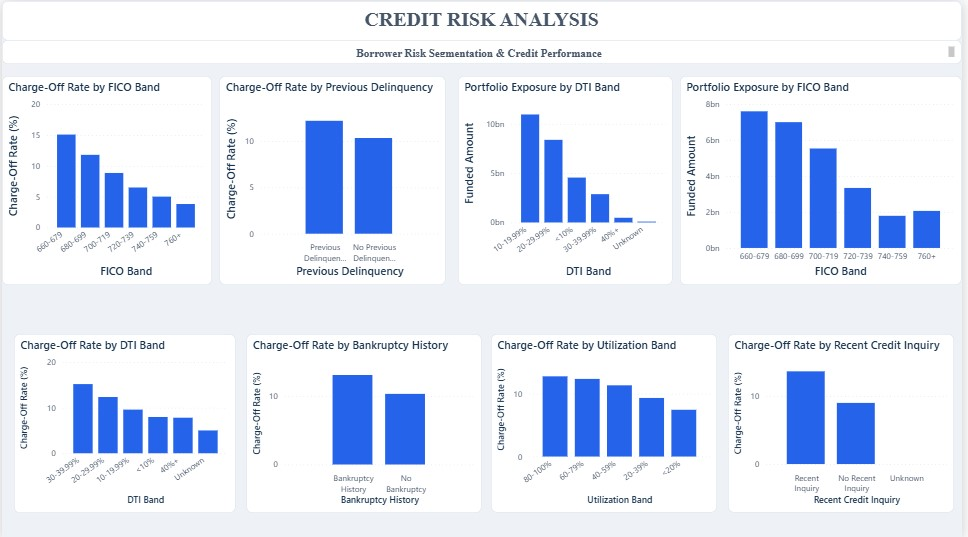

Layout of this report page (visuals, bound fields, positions):
{"tool":"powerbi","page":{"name":"Credit Risk Analysis","canvas":[1280,720],"ordinal":2},"visuals":[{"type":"clusteredColumnChart","title":"Charge-Off Rate by FICO Band","fields":{"Category":["FICO_Risk.fico_band"],"Y":["Sum(FICO_Risk.charge_off_rate)"]},"box":[0,100,280,278.3],"z":0},{"type":"clusteredColumnChart","title":"Charge-Off Rate by DTI Band","fields":{"Category":["DTI_Risk.dti_band"],"Y":["Sum(DTI_Risk.charge_off_rate)"]},"box":[16.7,443.3,295,238.3],"z":1000},{"type":"textbox","box":[0,0,1279.5,53],"z":2000},{"type":"textbox","box":[0,53,1279.5,31.8],"z":3000},{"type":"clusteredColumnChart","title":"Charge-Off Rate by Previous Delinquency","fields":{"Category":["Delinquency.delinquency_group"],"Y":["Sum(Delinquency.charge_off_rate)"]},"box":[290.7,99.9,301.3,278.6],"z":4000},{"type":"clusteredColumnChart","title":"Charge-Off Rate by Bankruptcy History","fields":{"Category":["Bankruptcy.bankruptcy_group"],"Y":["Sum(Bankruptcy.charge_off_rate)"]},"box":[326.7,443.3,313.3,238.3],"z":5000},{"type":"clusteredColumnChart","title":"Charge-Off Rate by Recent Credit Inquiry","fields":{"Category":["Credit_Inquiry.inquiry_group"],"Y":["Sum(Credit_Inquiry.charge_off_rate)"]},"box":[967.6,443.7,301.3,237.7],"z":6000},{"type":"clusteredColumnChart","title":"Charge-Off Rate by Utilization Band","fields":{"Category":["Utilization.utilization_band"],"Y":["Sum(Utilization.charge_off_rate)"]},"box":[651.1,443.7,301.3,237.7],"z":7000},{"type":"clusteredColumnChart","title":"Portfolio Exposure by FICO Band","fields":{"Category":["FICO_Risk.fico_band"],"Y":["Sum(FICO_Risk.funded_amount)"]},"box":[904,99.9,375.5,278.6],"z":8000},{"type":"clusteredColumnChart","title":"Portfolio Exposure by DTI Band","fields":{"Category":["DTI_Risk.dti_band"],"Y":["Sum(DTI_Risk.funded_amount)"]},"box":[607.2,99.9,286.2,278.6],"z":9000}]}

Visuals, with their boxes in screenshot pixels (x1, y1, x2, y2), scaled from the page's 1280x720 canvas onto the 968x537 screenshot:
"Charge-Off Rate by FICO Band" clusteredColumnChart: [left=0, top=75, right=212, bottom=282]
"Charge-Off Rate by DTI Band" clusteredColumnChart: [left=13, top=331, right=236, bottom=508]
textbox: [left=0, top=0, right=967, bottom=40]
textbox: [left=0, top=40, right=967, bottom=63]
"Charge-Off Rate by Previous Delinquency" clusteredColumnChart: [left=220, top=75, right=448, bottom=282]
"Charge-Off Rate by Bankruptcy History" clusteredColumnChart: [left=247, top=331, right=484, bottom=508]
"Charge-Off Rate by Recent Credit Inquiry" clusteredColumnChart: [left=732, top=331, right=960, bottom=508]
"Charge-Off Rate by Utilization Band" clusteredColumnChart: [left=492, top=331, right=720, bottom=508]
"Portfolio Exposure by FICO Band" clusteredColumnChart: [left=684, top=75, right=967, bottom=282]
"Portfolio Exposure by DTI Band" clusteredColumnChart: [left=459, top=75, right=676, bottom=282]
